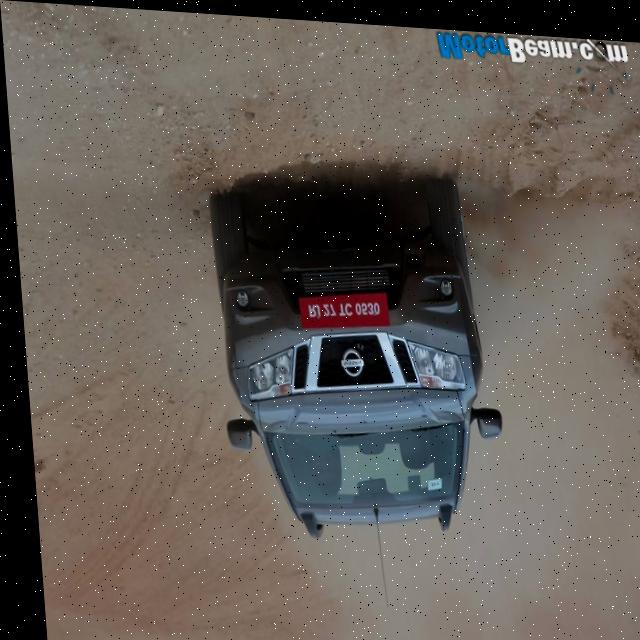plate: (292, 282, 386, 332)
